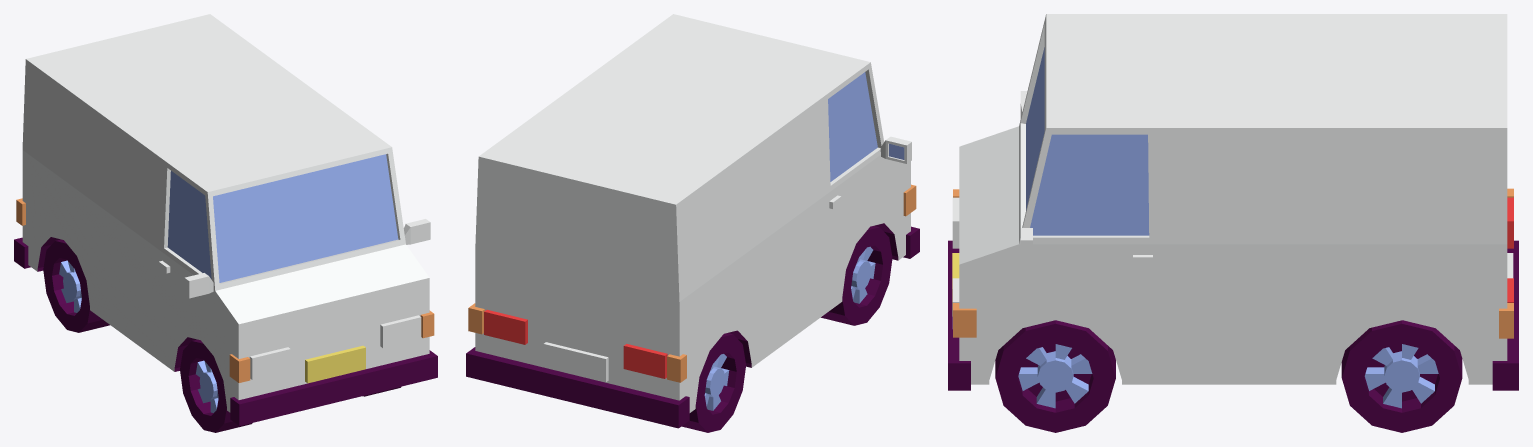
File: car5.glb
The picture shows the model from 3 angles, left to right: view 1: azimuth 30°, elevation 25°; view 2: azimuth 150°, elevation 25°; view 3: azimuth 270°, elevation 25°; orthographic projection. The views are drawn at different scales.
Parts seen in each view (by area): view 1: car.013; view 2: car.013; view 3: car.013.
Part boxes in pixels (x1,y1,x2,y2): car.013: (14, 14, 437, 432); car.013: (466, 14, 919, 432); car.013: (948, 14, 1518, 432).
Size of the model in its own units: 1.35 by 1.29 by 2.19.
1 material, 1 textured.
